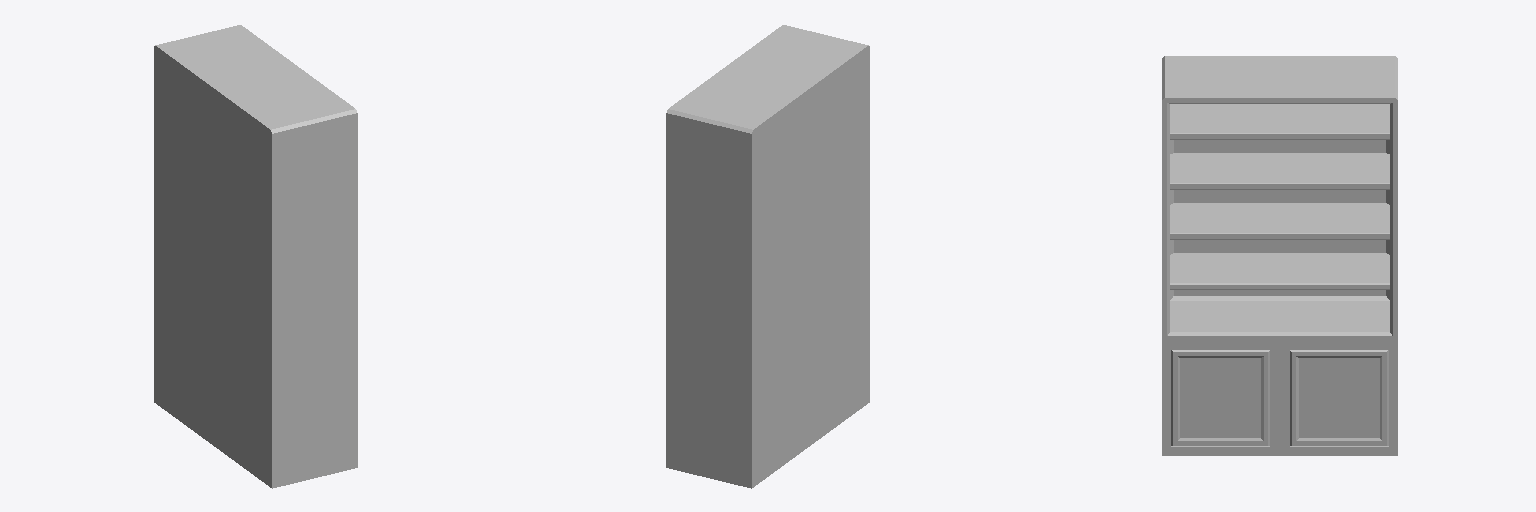
Rendered from bookshelf.obj.
The picture shows the model from 3 angles: view 1: azimuth 30°, elevation 25°; view 2: azimuth 150°, elevation 25°; view 3: azimuth 270°, elevation 25°; orthographic projection.
Visible parts, largest first — view 1: Cube; view 2: Cube; view 3: Cube, Cube.001.
Part boxes in pixels (x1,y1,x2,y2): Cube: (154,25,357,488); Cube: (666,25,869,488); Cube: (1162,56,1397,455); Cube.001: (1170,104,1389,289).
Bounding box in the file's own units: 0.8315 × 3.3 × 1.98.